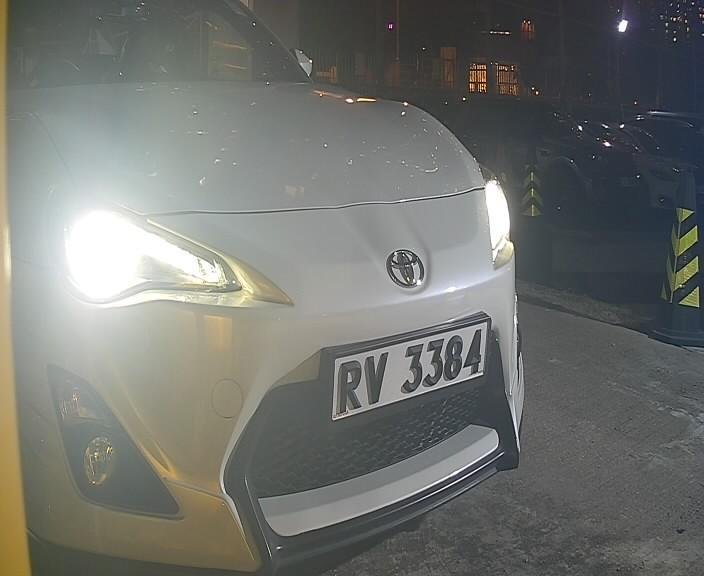privatecar: (26, 13, 519, 548)
